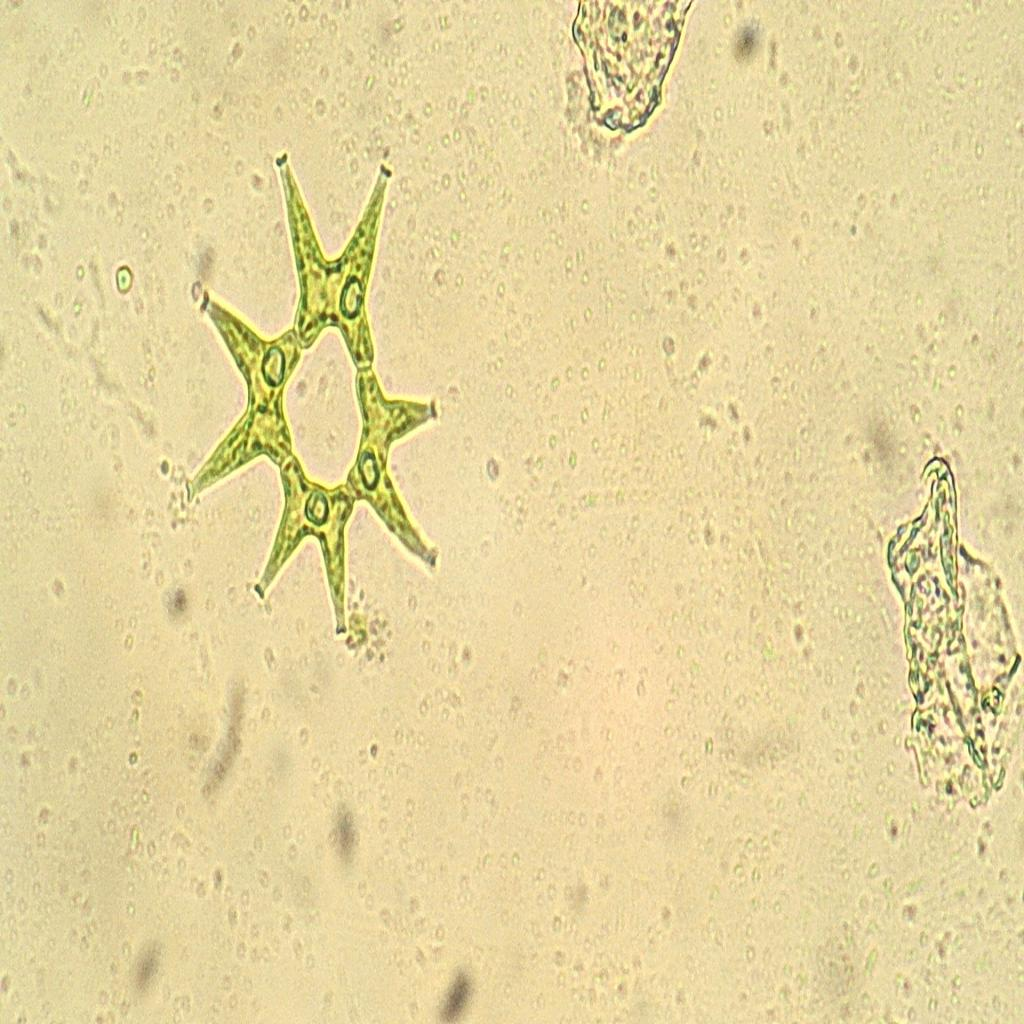Pediastrum_75O: (172, 128, 456, 672)
